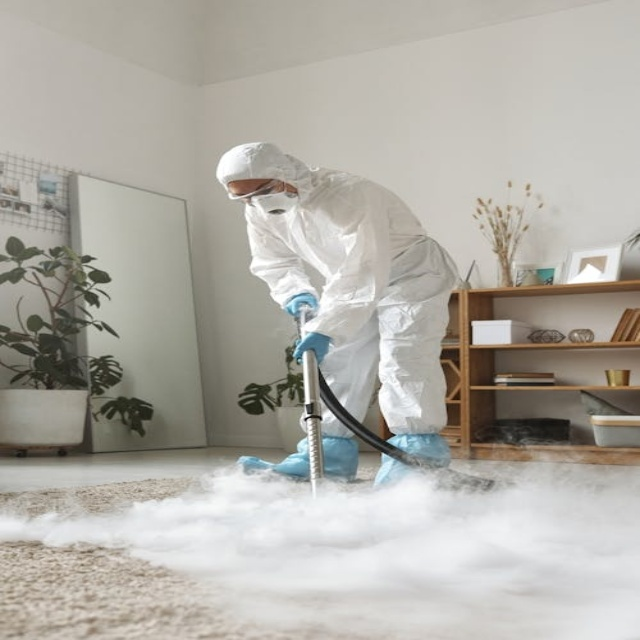Gafas: (231, 180, 287, 203)
Guantes: (293, 332, 332, 366), (284, 293, 317, 317)
Mascara: (248, 186, 299, 217)
